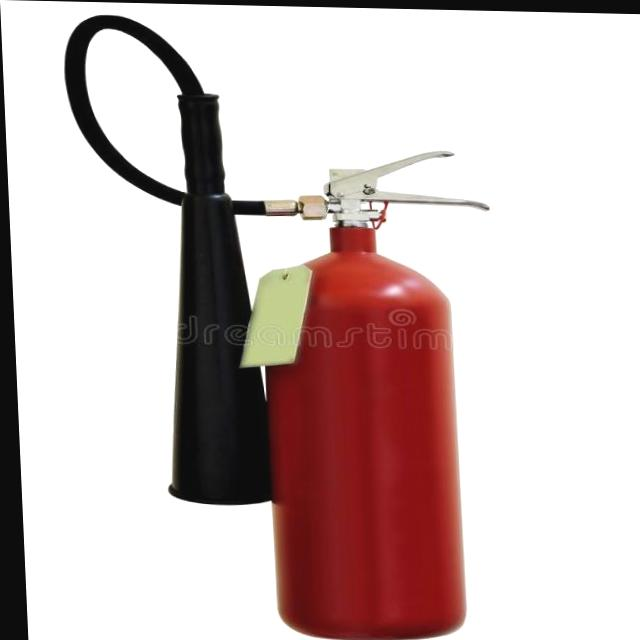FireExtinguisher: (52, 10, 512, 640)
